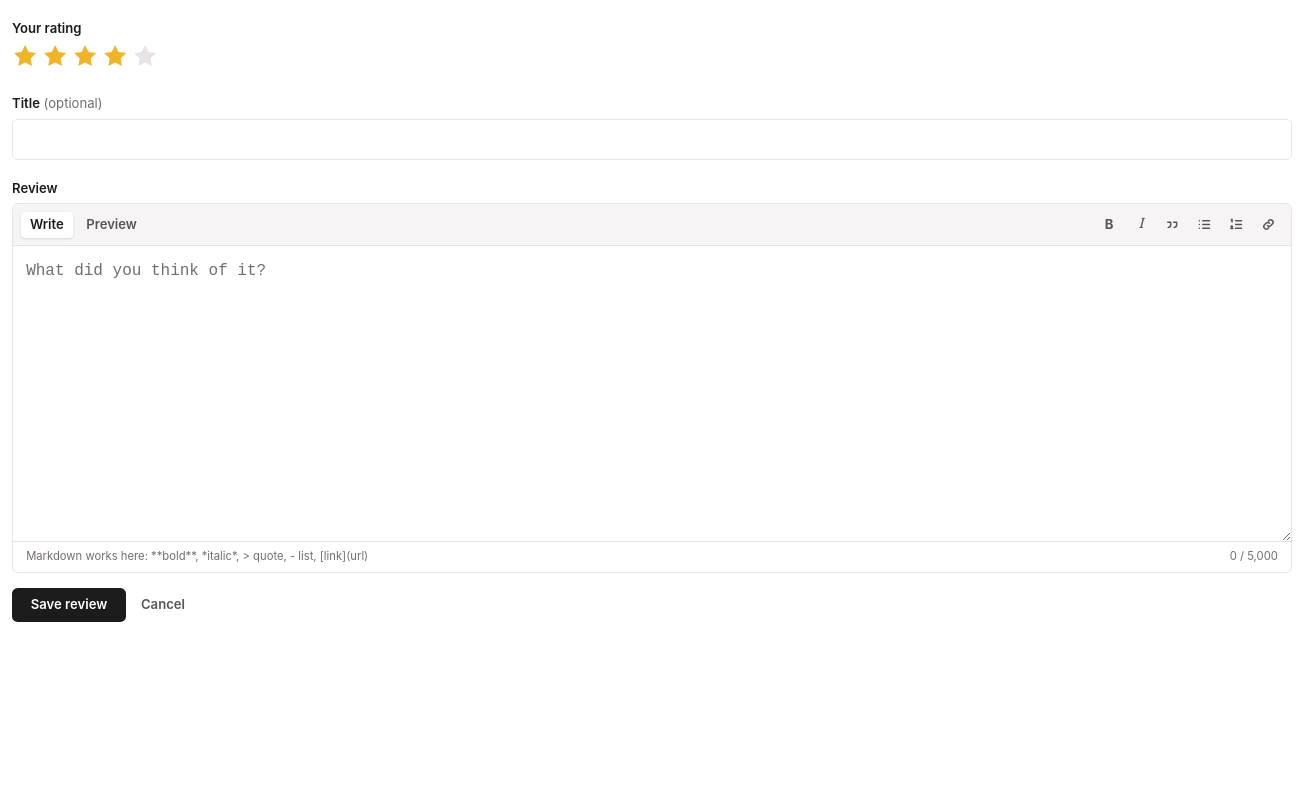
Scenario: ReviewEditor › should say there is nothing to preview for an empty body
What coordinates should you click on to do the following:
click the tab "Preview"
I would click on:
 (112, 225)
Its box is [77,212,146,238].
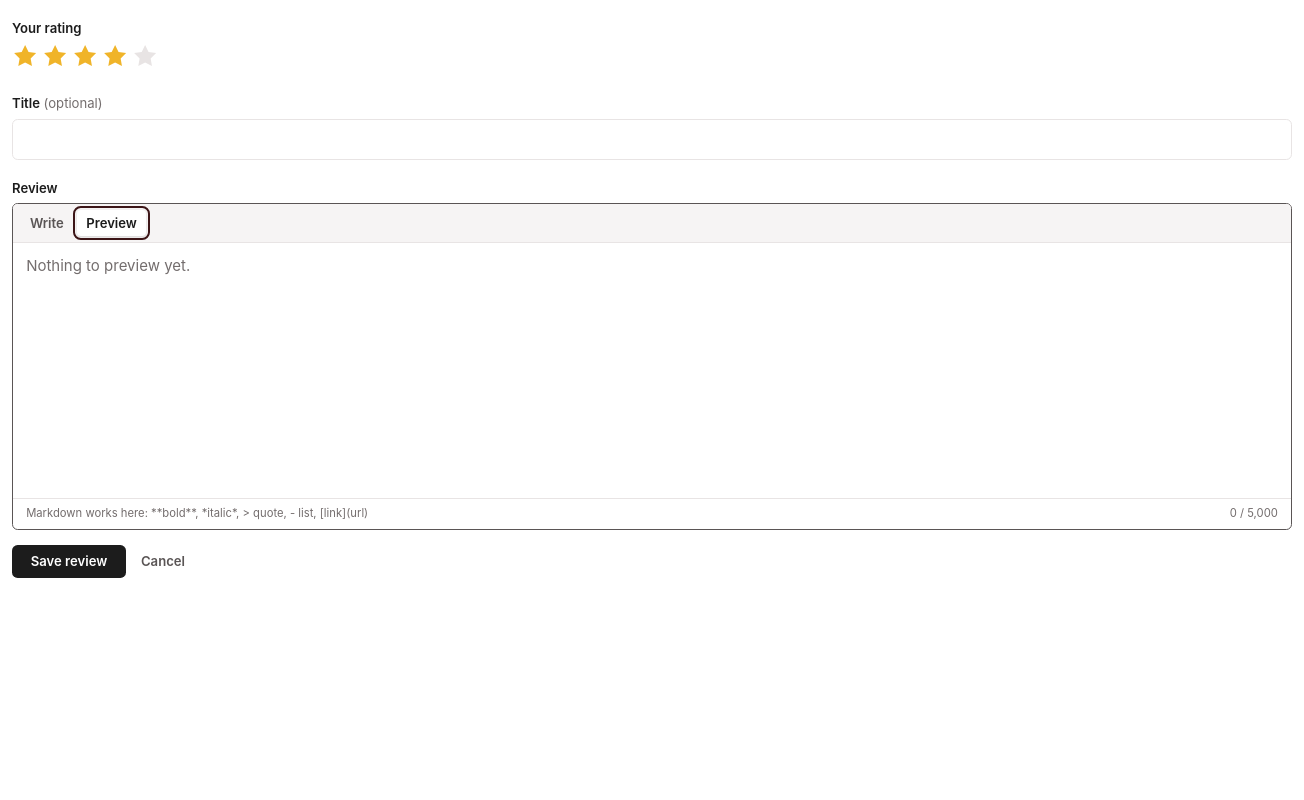
Result: the text "Nothing to preview yet." is shown at [26,256,190,275]
